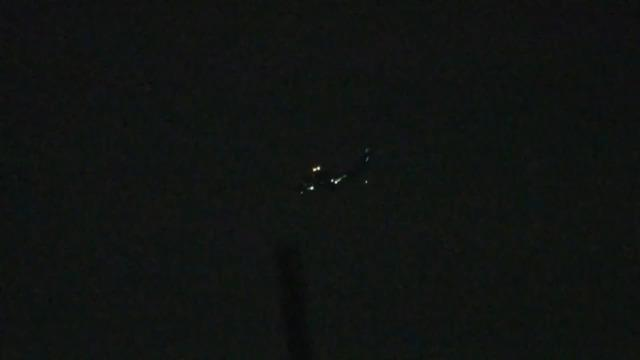Plane: (282, 154, 366, 196)
